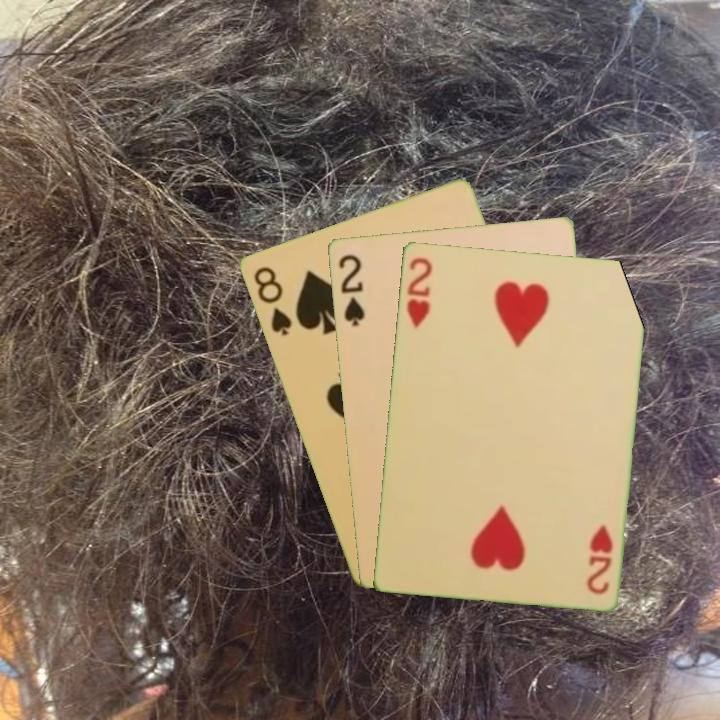2h: (582, 520, 616, 598), (402, 253, 434, 331)
2s: (334, 250, 367, 329)
8s: (249, 263, 295, 339)
